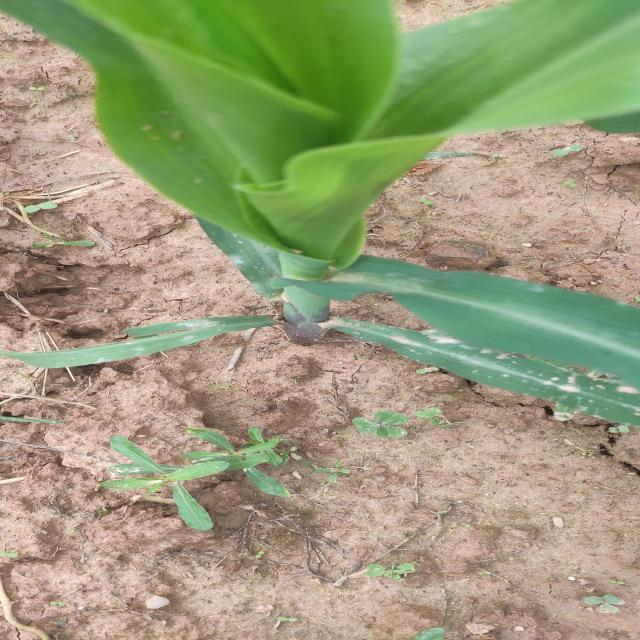maize: (8, 0, 640, 439)
weed: (73, 419, 331, 536), (347, 408, 470, 436), (337, 554, 448, 582), (556, 589, 628, 616), (11, 194, 71, 220), (33, 232, 108, 250), (380, 625, 465, 640), (267, 620, 307, 624)
